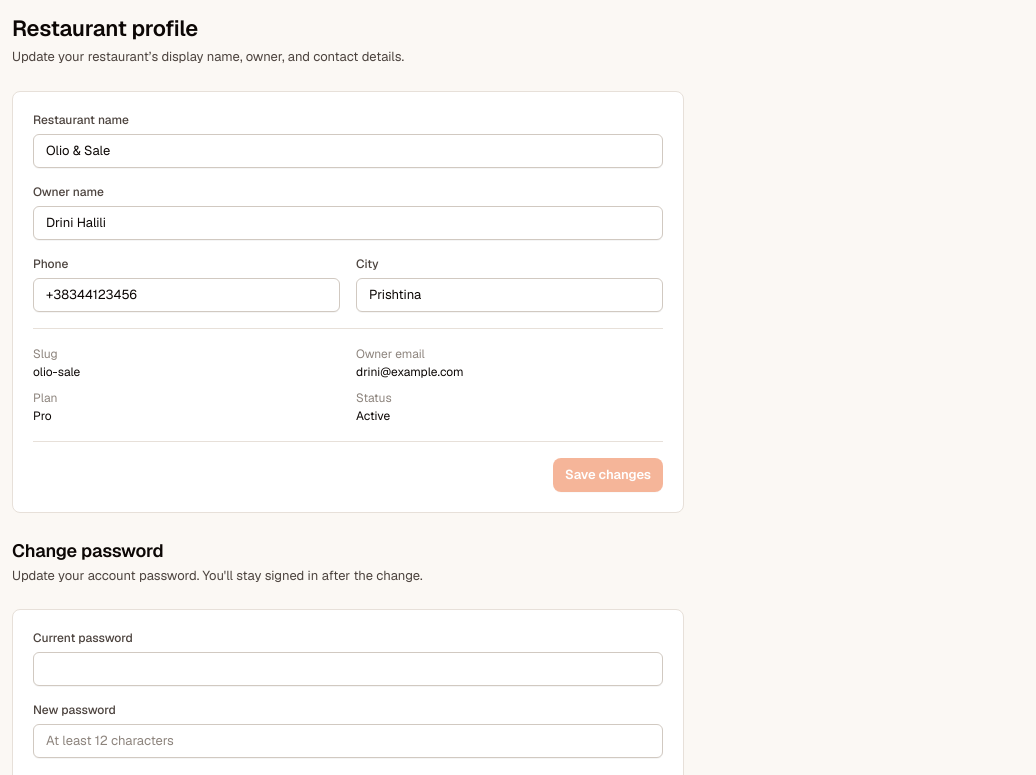
Scenario: RestaurantProfilePage › submits an updated profile via PUT /v1/restaurant
Replace the text in the field labelled "City" with "Pejë" at (510, 295), box [369,285,650,304]
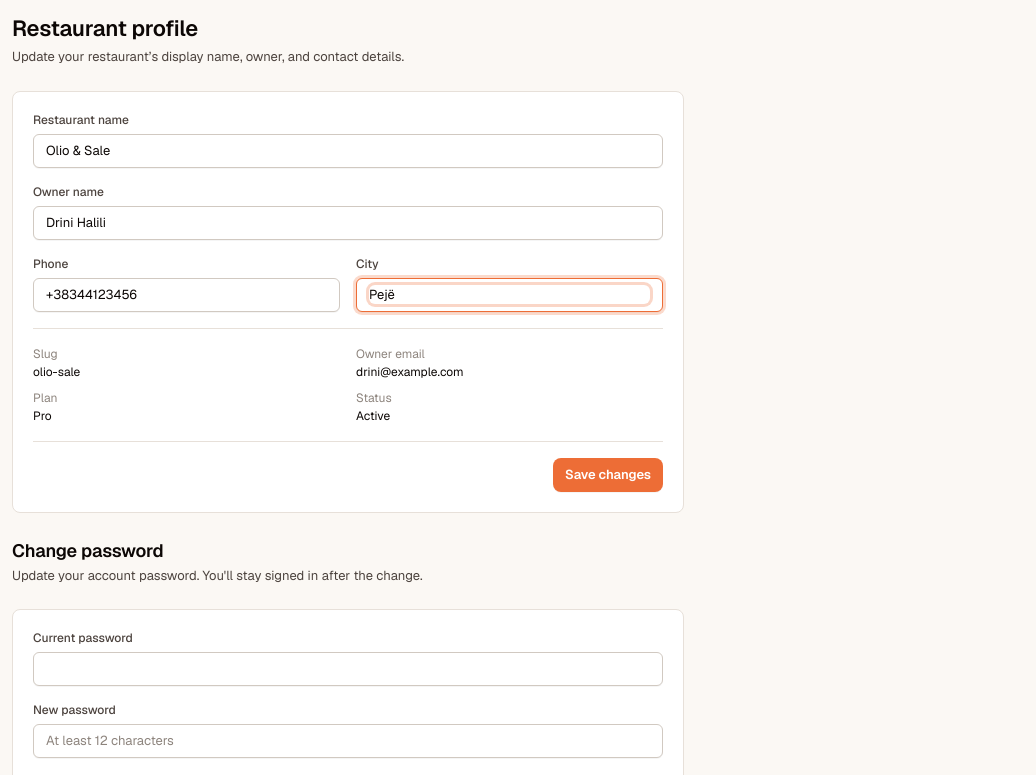
Click the button "Save changes" at (608, 474), box [553,458,663,492]
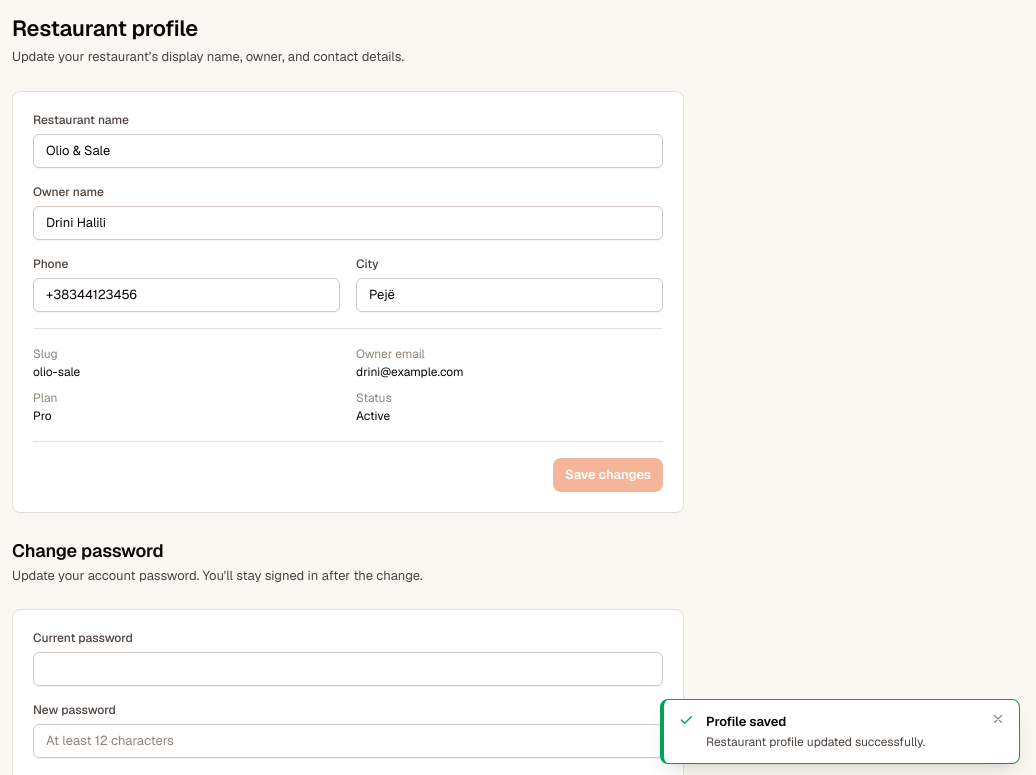
Expected: the message "Profile saved Restaurant profile updated successfully." is shown, [660,699,1020,764]
